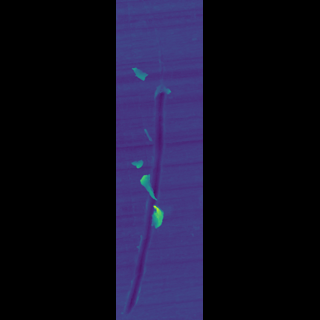Loch: (149, 81, 163, 318), (154, 173, 159, 200), (157, 206, 161, 230), (152, 64, 157, 82), (152, 159, 155, 169)
